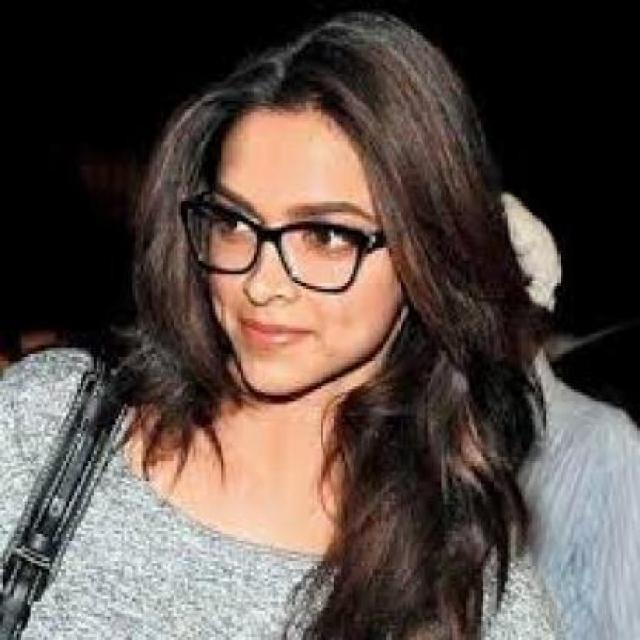mask: (168, 180, 388, 308)
